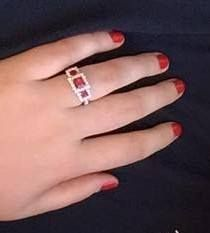finger: (62, 120, 194, 182), (82, 77, 189, 139), (70, 50, 171, 107), (41, 21, 126, 80)
